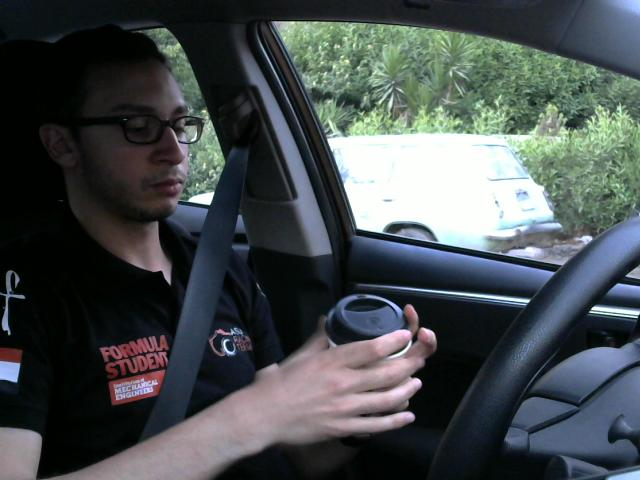Drinking: (321, 286, 426, 442)
